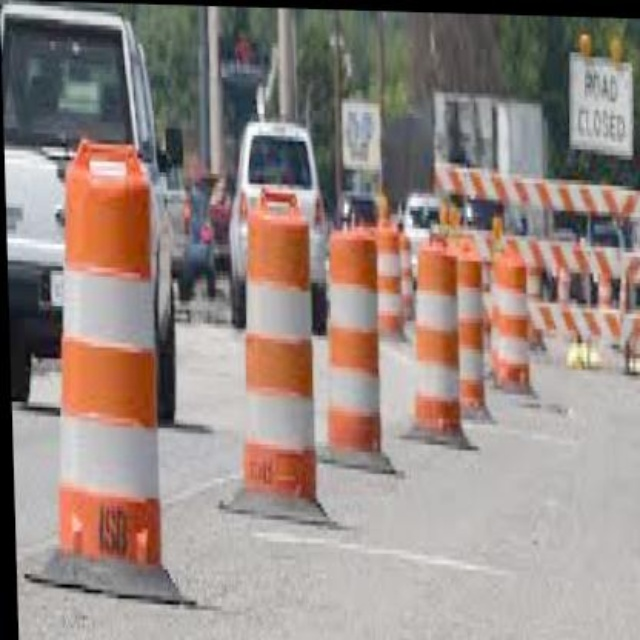obstacle: (60, 129, 166, 573), (234, 191, 319, 506), (322, 223, 380, 450)
